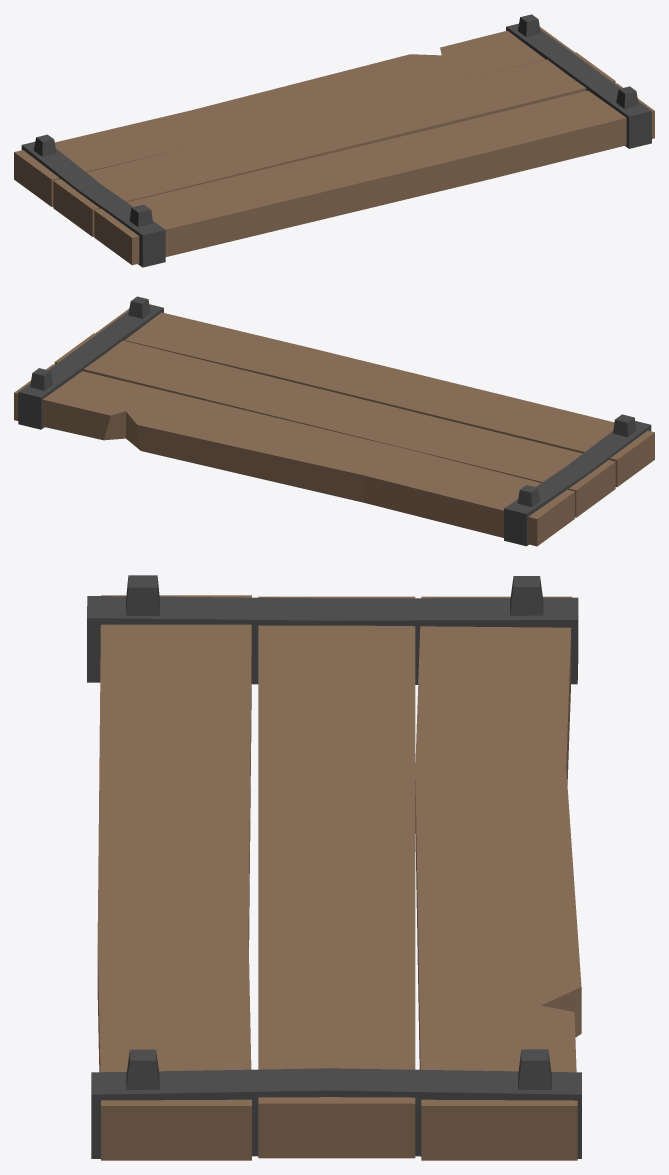
File: Plateforme_Sus1.fbx
3 renders of one model, top to bottom at view 1: azimuth 30°, elevation 25°; view 2: azimuth 150°, elevation 25°; view 3: azimuth 270°, elevation 25°, orthographic. The views are drawn at different scales.
Parts seen in each view (by area): view 1: Cube; view 2: Cube; view 3: Cube.
Part boxes in pixels (bbox=[...]): Cube: bbox=[14, 14, 654, 267]; Cube: bbox=[14, 296, 654, 546]; Cube: bbox=[87, 575, 581, 1160].
Bounding box in the file's own units: 583 × 50.14 × 240.
